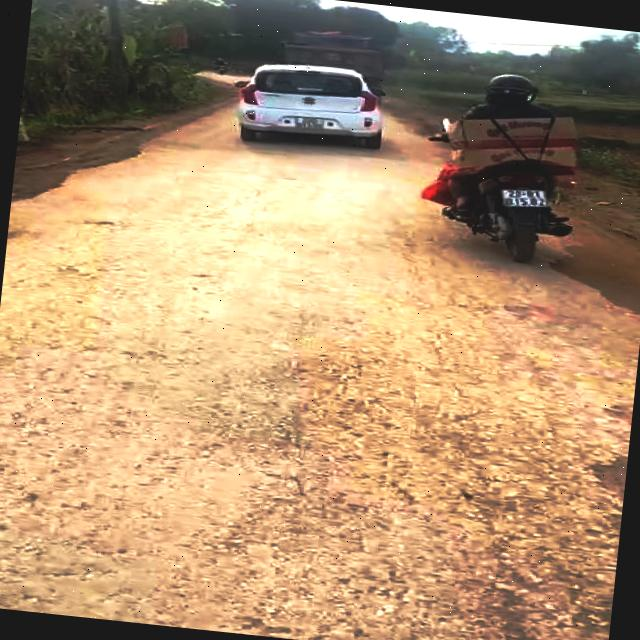pothole: (529, 234, 640, 323), (570, 394, 634, 506)
